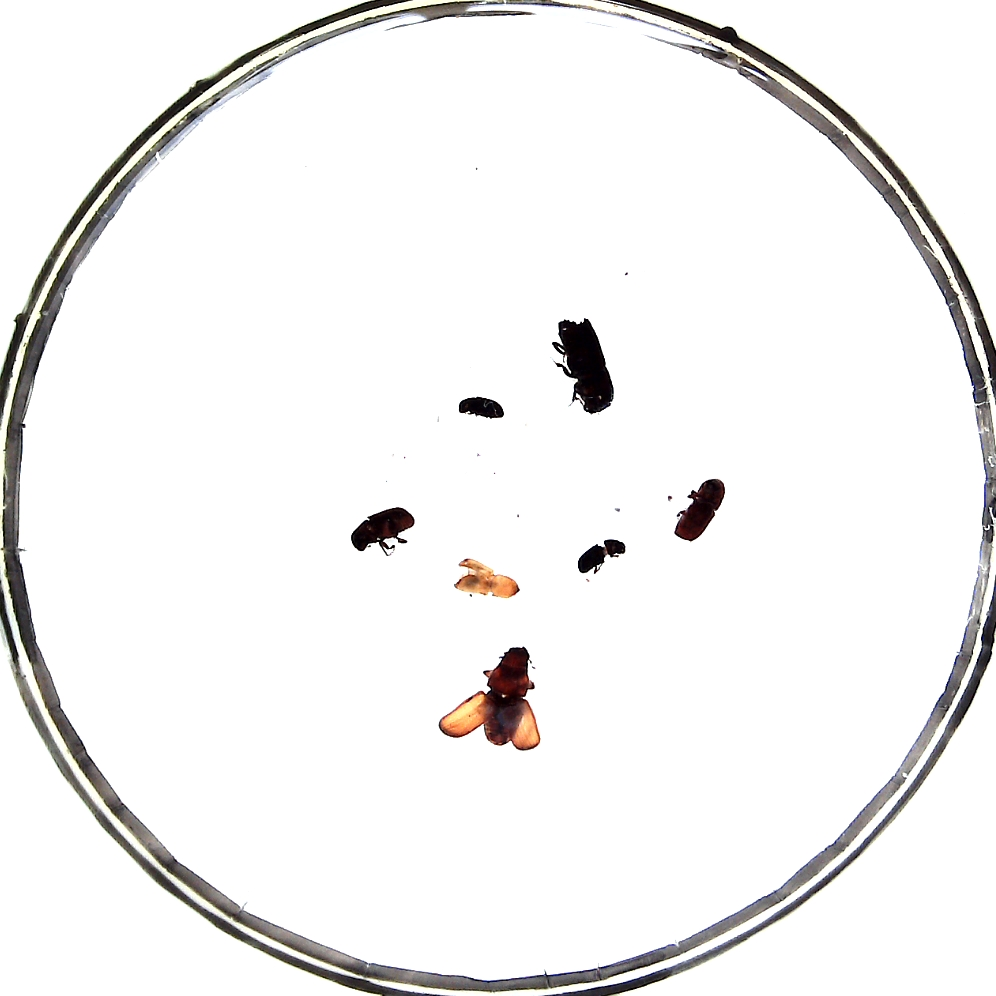Boerner: (558, 317, 614, 414)
Leconte: (483, 646, 529, 745)
acuminatus: (577, 538, 625, 574), (459, 397, 504, 419)
armandi: (351, 507, 415, 552)
coleoptera: (453, 558, 520, 598)
linnaeus: (673, 478, 725, 542)
